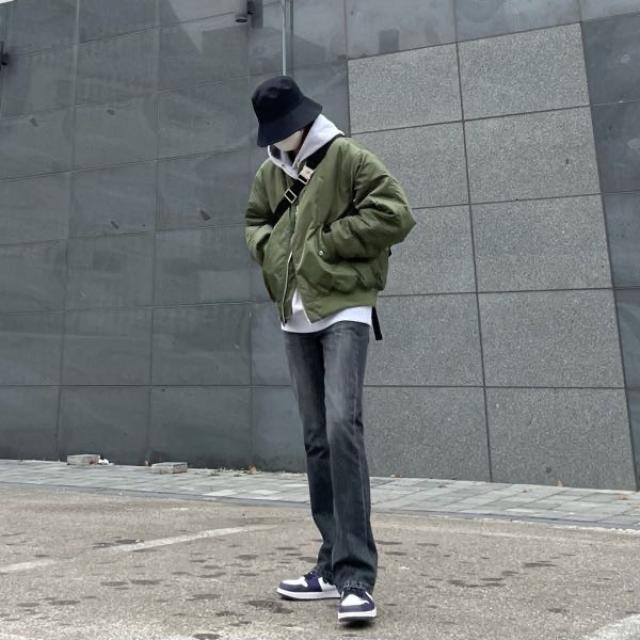denimpants: (282, 320, 374, 596)
jacket: (243, 134, 413, 324)
